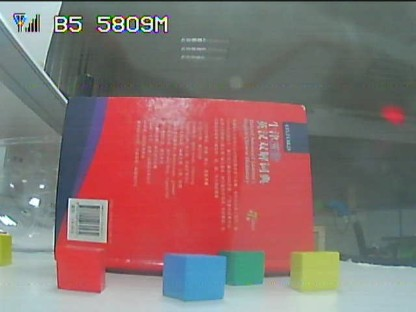b: (165, 254, 223, 300)
g: (223, 252, 265, 285)
r: (55, 247, 105, 292)
